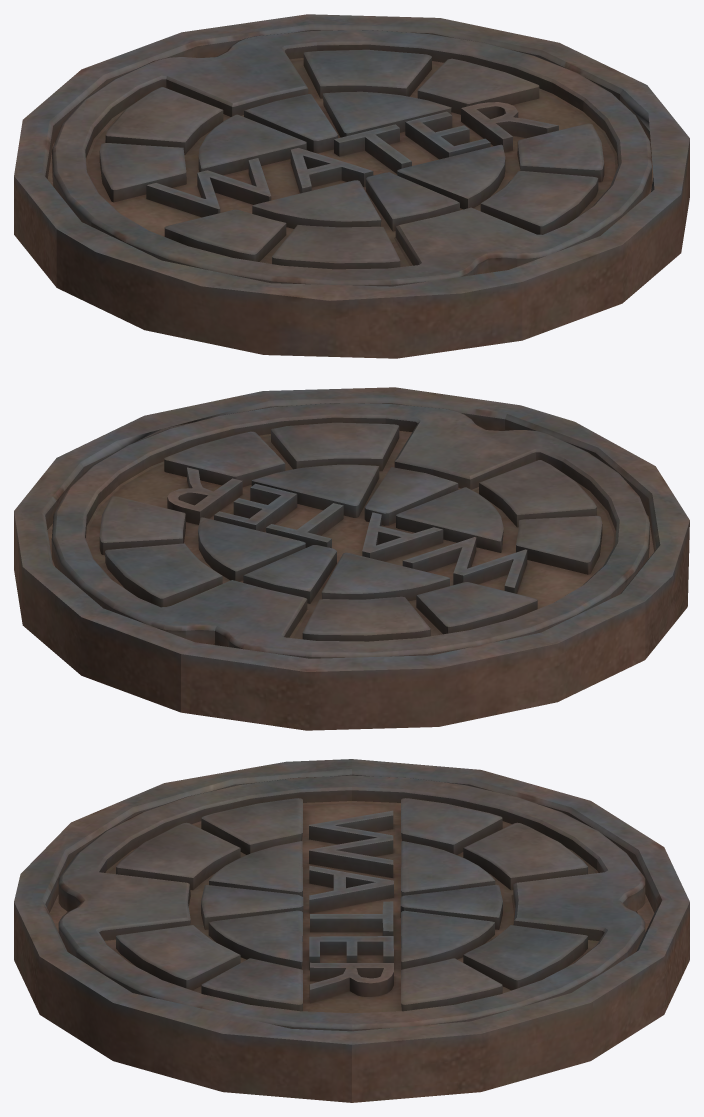
File: ManholeCover.obj
The picture shows the model from 3 angles, top to bottom: view 1: azimuth 30°, elevation 25°; view 2: azimuth 150°, elevation 25°; view 3: azimuth 270°, elevation 25°; orthographic projection.
Visible parts, largest first — view 1: water_manhole_cover, water_manhole_cover_frame; view 2: water_manhole_cover, water_manhole_cover_frame; view 3: water_manhole_cover, water_manhole_cover_frame.
Boxes of the visible parts, bbox=[...] form: water_manhole_cover: bbox=[52, 30, 651, 286]; water_manhole_cover_frame: bbox=[14, 14, 689, 358]; water_manhole_cover: bbox=[51, 403, 649, 658]; water_manhole_cover_frame: bbox=[14, 387, 689, 730]; water_manhole_cover: bbox=[58, 775, 645, 1031]; water_manhole_cover_frame: bbox=[14, 759, 689, 1102].
Size of the model in its own units: 0.6908 by 0.0677 by 0.6908.
1 material, 1 textured.
